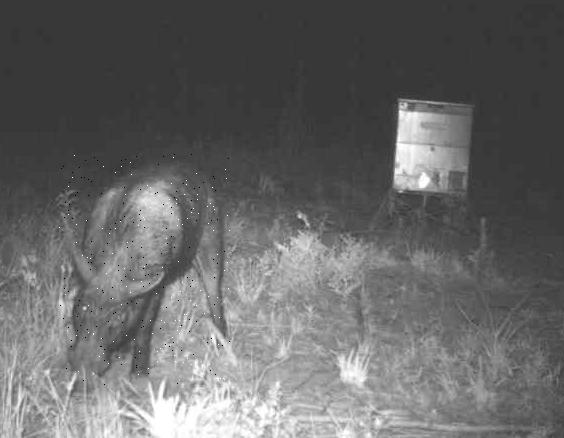Hog: (59, 155, 230, 387)
